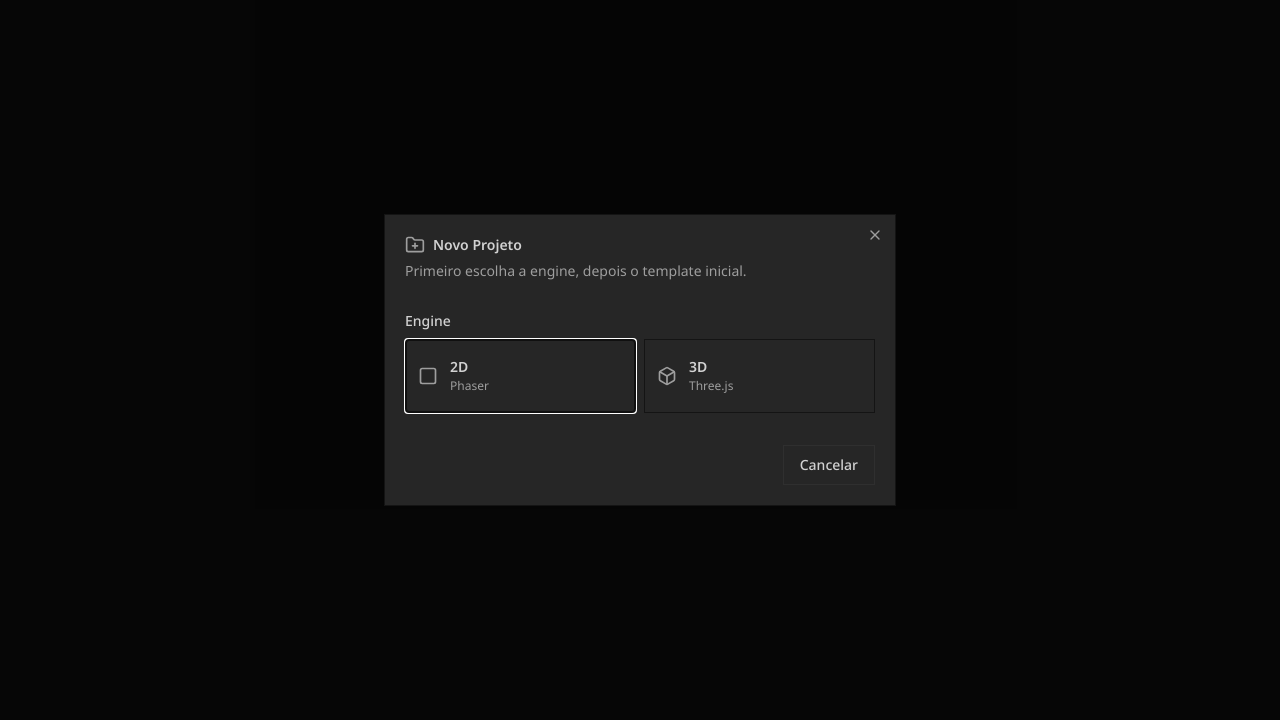
CreateProjectDialog › asks for 2D or 3D before showing templates
expect the button with test id "project-kind-2d" shows "2D": met, box [405,339,636,413]
expect the button with test id "project-kind-2d" shows "Phaser": met, box [405,339,636,413]
Click the button with test id "project-kind-3d" at (760, 376), box [644,339,875,413]
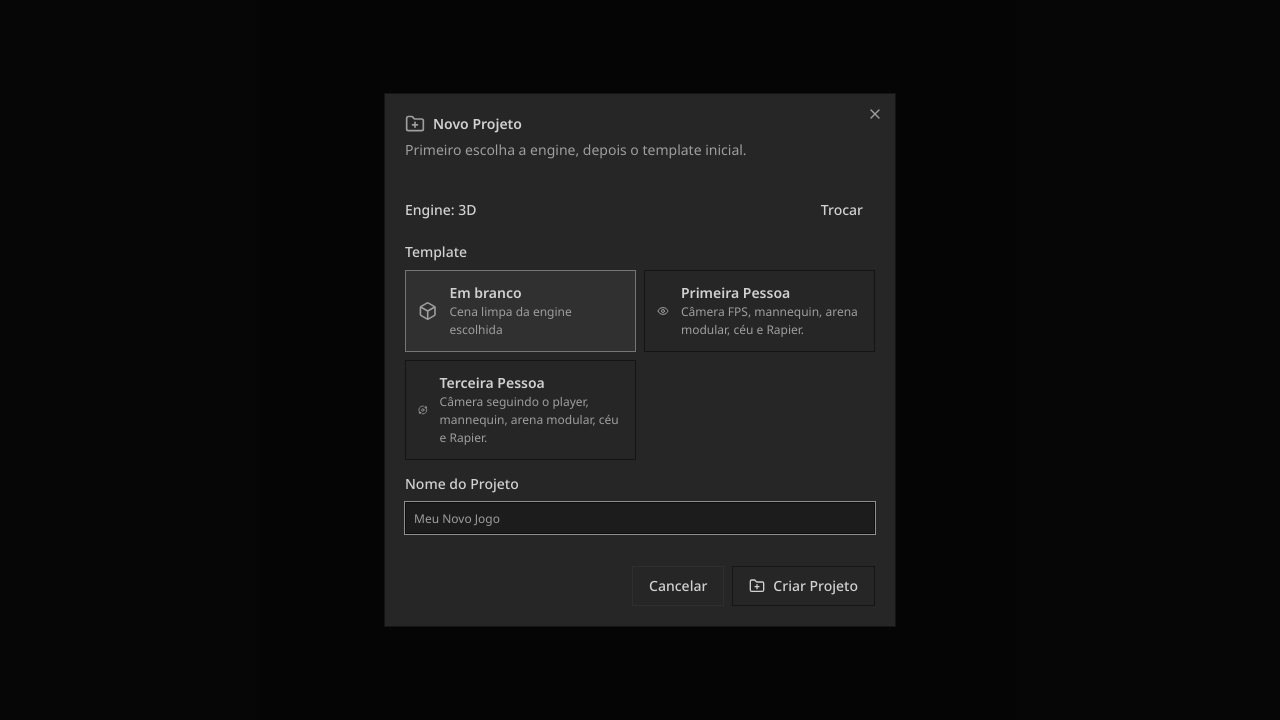
expect the button with test id "template-blank" is shown: met, box [405,270,636,352]
expect the button with test id "template-first-person" is shown: met, box [644,270,875,352]
expect the button with test id "template-third-person" is shown: met, box [405,360,636,460]
Click the button "Trocar" at (842, 210), box [809,192,875,228]
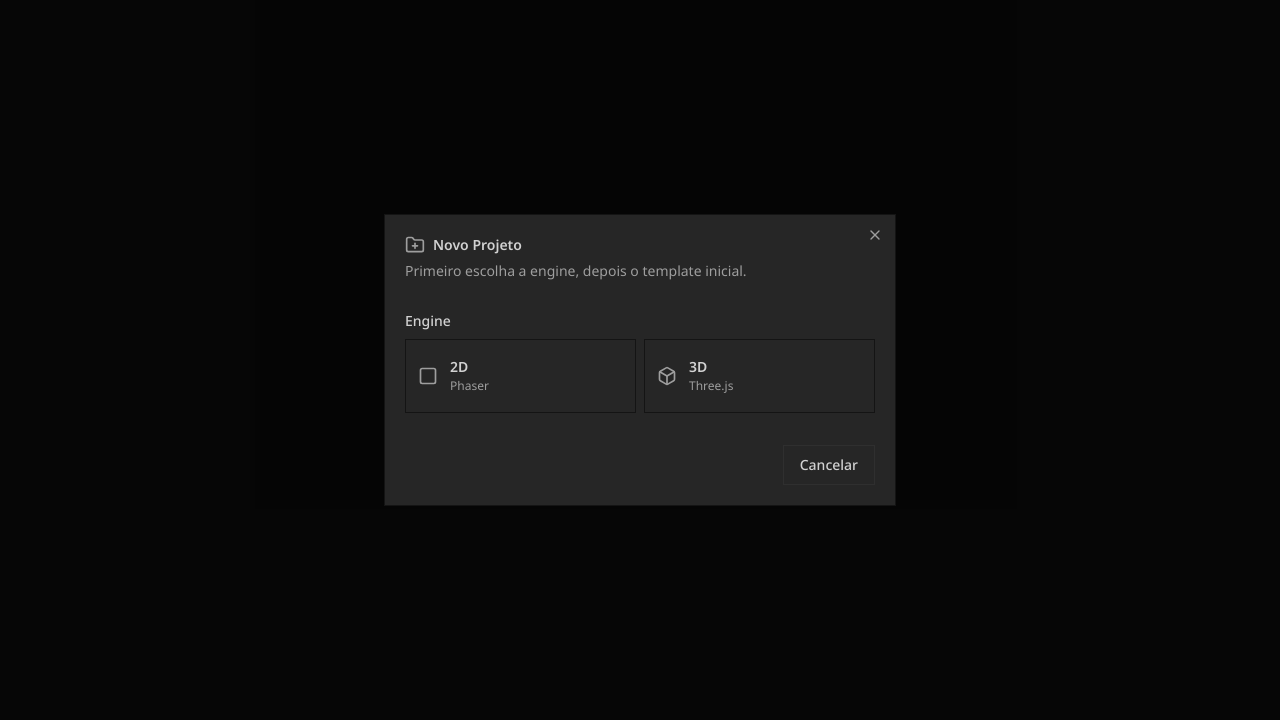
Click the button with test id "project-kind-2d" at (520, 376), box [405,339,636,413]
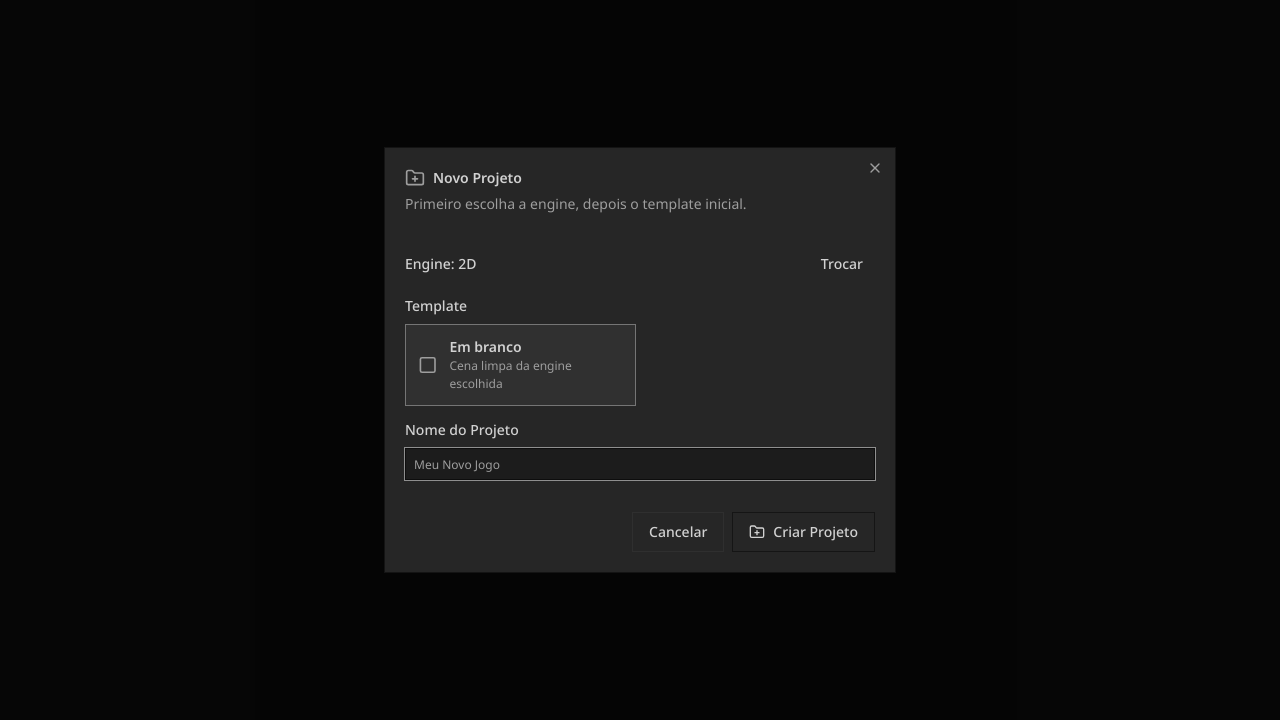
expect the button with test id "template-blank" is shown: met, box [405,324,636,406]
